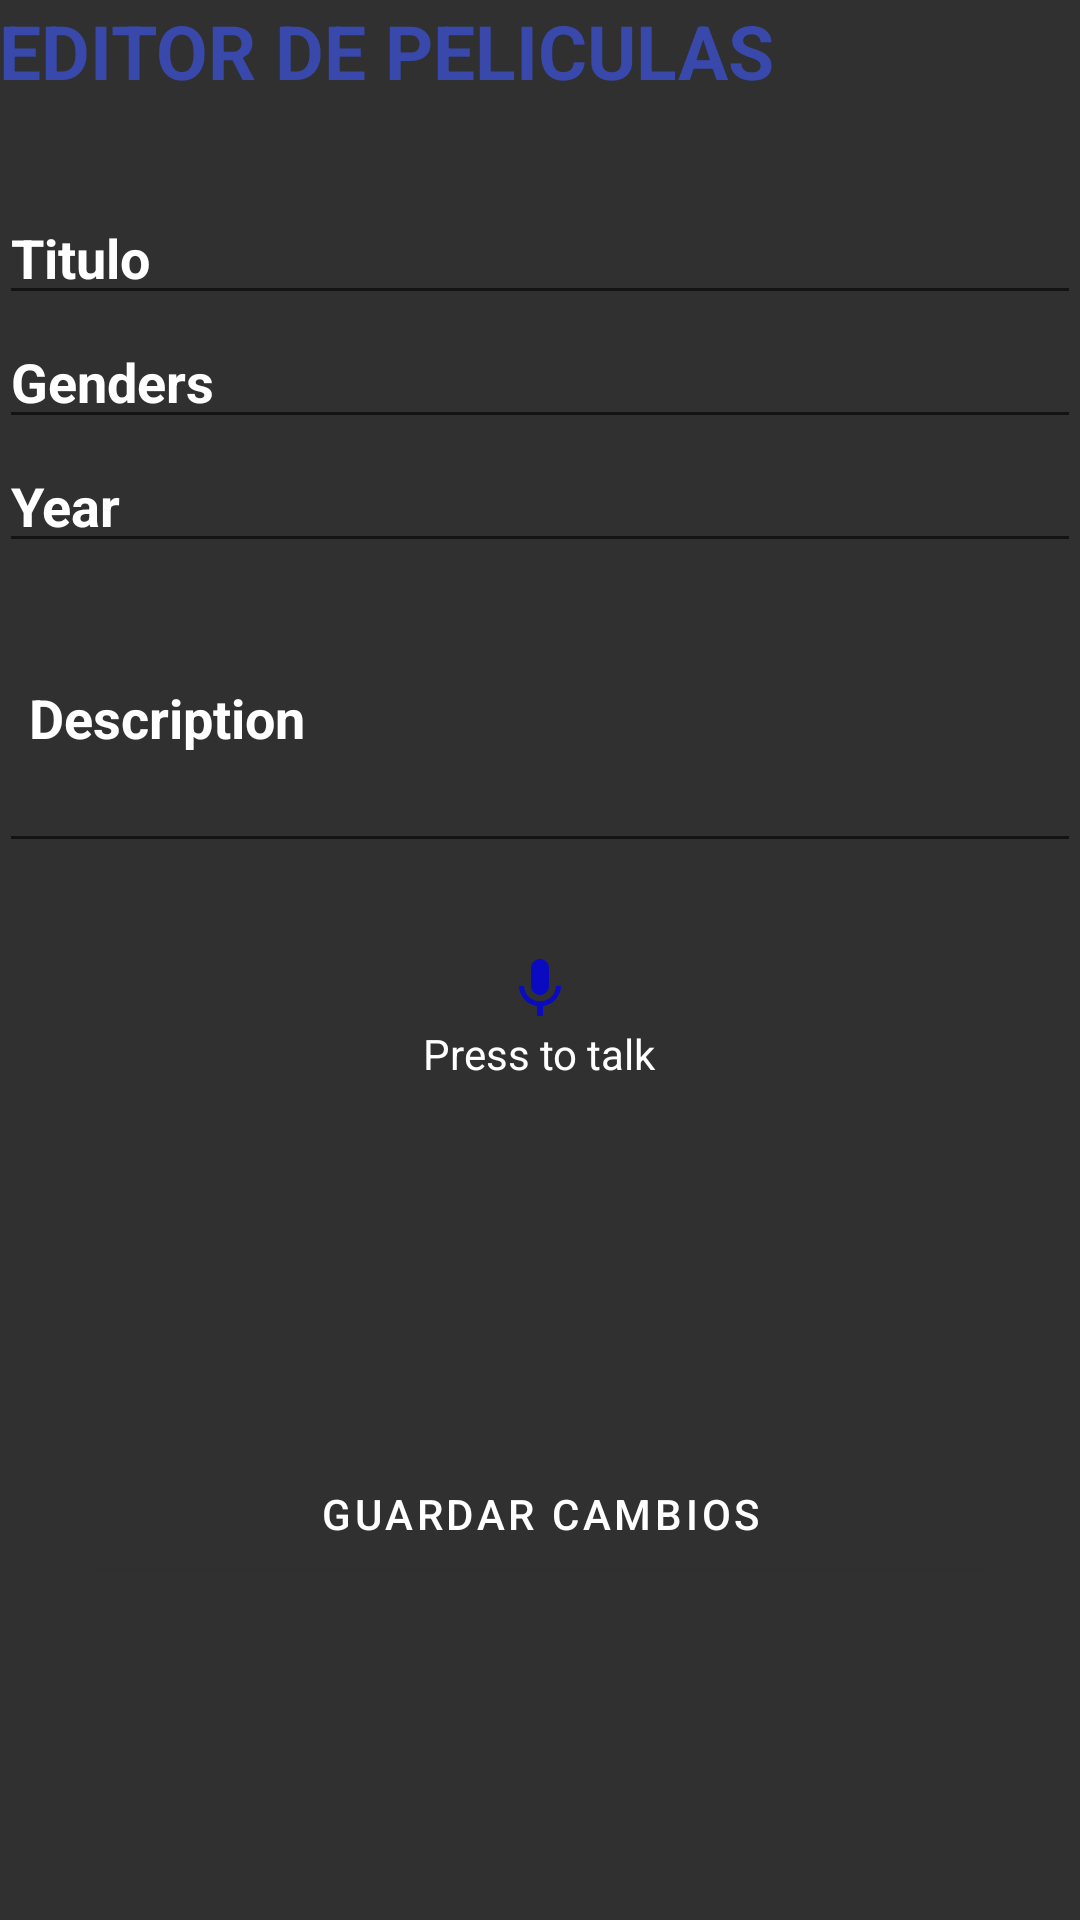

Icon click points for this 1080×1920 phone screenshot, format [x,y]:
microfono: [540,987]
